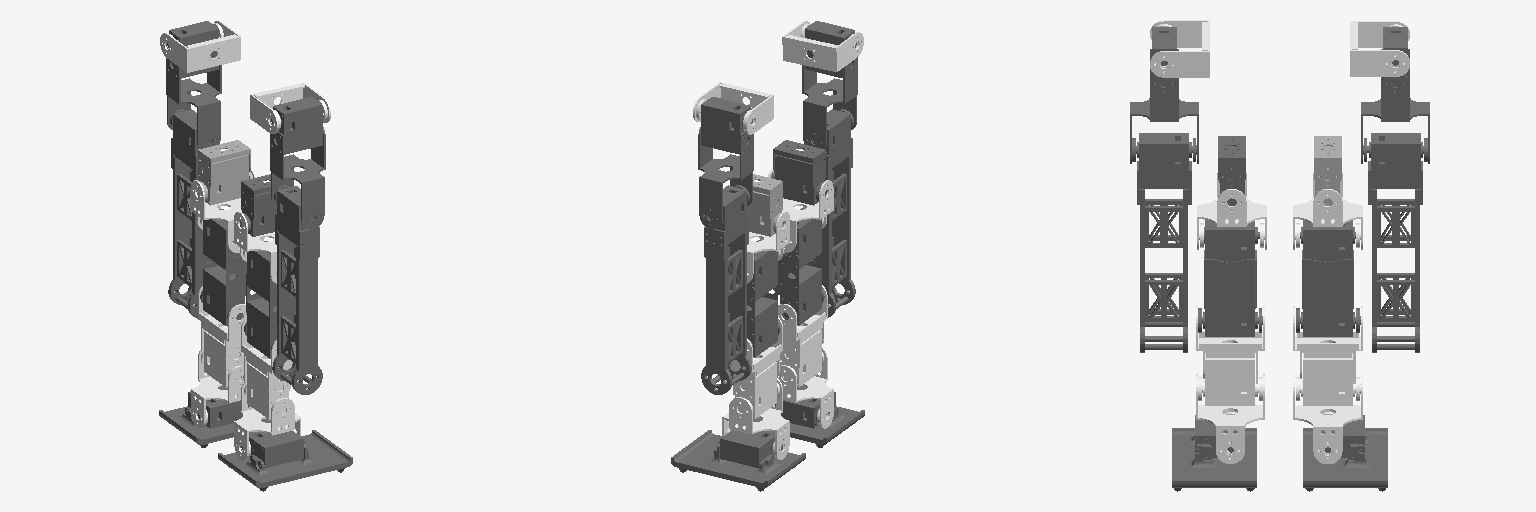
--- What the picture shows (computed from the rendered views, not written in the file) ---
3 views of the same robot in one strip: view 1: azimuth 30°, elevation 25°; view 2: azimuth 150°, elevation 25°; view 3: azimuth 270°, elevation 25° (orthographic).
Robot: Tonypi_urdf — 19 links, 18 joints (18 revolute); root link body_link; default pose: all joints at 0.
Links seen in each view (by area): view 1: right_arm_Link3, right_arm_Link2, left_arm_Link3, right_leg_Link6, left_arm_Link2, left_leg_Link3, right_leg_Link3, left_leg_Link1, left_leg_Link4, right_leg_Link4, left_arm_Link1, left_leg_Link6 (+6 smaller); view 2: left_arm_Link3, left_arm_Link2, right_arm_Link3, left_leg_Link6, right_arm_Link2, right_leg_Link3, left_leg_Link3, right_leg_Link4, right_leg_Link1, left_leg_Link4, right_arm_Link1, right_leg_Link6 (+6 smaller); view 3: right_arm_Link3, left_arm_Link3, right_leg_Link3, left_leg_Link3, right_leg_Link6, left_leg_Link6, left_leg_Link4, right_leg_Link4, right_arm_Link2, left_arm_Link2, right_arm_Link1, left_arm_Link1 (+6 smaller).
Boxes of the visible links, box(x1,y1,x2,y2) form: right_arm_Link3: box(272, 186, 322, 394); right_arm_Link2: box(270, 97, 325, 229); left_arm_Link3: box(168, 109, 211, 318); right_leg_Link6: box(218, 430, 352, 491); left_arm_Link2: box(166, 21, 221, 148); left_leg_Link3: box(200, 209, 246, 325); right_leg_Link3: box(244, 241, 276, 358); left_leg_Link1: box(196, 140, 252, 205); left_leg_Link4: box(198, 286, 246, 387); right_leg_Link4: box(241, 318, 292, 419); left_arm_Link1: box(160, 21, 240, 72); left_leg_Link6: box(159, 386, 270, 447); left_arm_Link3: box(701, 185, 751, 394); left_arm_Link2: box(698, 97, 753, 229); right_arm_Link3: box(813, 109, 855, 317); left_leg_Link6: box(671, 430, 805, 491); right_arm_Link2: box(802, 21, 857, 148); right_leg_Link3: box(778, 208, 824, 325); left_leg_Link3: box(747, 240, 780, 357); right_leg_Link4: box(778, 285, 827, 386); right_leg_Link1: box(771, 140, 827, 205); left_leg_Link4: box(731, 317, 782, 418); right_arm_Link1: box(782, 21, 863, 71); right_leg_Link6: box(753, 386, 864, 447); right_arm_Link3: box(1136, 133, 1192, 352); left_arm_Link3: box(1367, 133, 1423, 352); right_leg_Link3: box(1198, 220, 1262, 336); left_leg_Link3: box(1296, 220, 1360, 336); right_leg_Link6: box(1172, 415, 1256, 491); left_leg_Link6: box(1303, 415, 1387, 491); left_leg_Link4: box(1293, 306, 1362, 405); right_leg_Link4: box(1196, 306, 1264, 405); right_arm_Link2: box(1130, 27, 1198, 163); left_arm_Link2: box(1361, 27, 1429, 163); right_arm_Link1: box(1150, 20, 1209, 77); left_arm_Link1: box(1350, 21, 1409, 76).
Bounding box of the posed robot: 0.0996 × 0.2399 × 0.377 m (x, y, z).
Meshes: 19 distinct files referenced, 18 mesh visuals loaded (18 binary STL); not drawn: 1 (reference not matched to a file when rendering).

robot.urdf — Tonypi_urdf:
<?xml version="1.0" encoding="utf-8"?>
<!-- This URDF was automatically created by SolidWorks to URDF Exporter! Originally created by Stephen Brawner ([email redacted]) 
     Commit Version: 1.6.0-4-g7f85cfe  Build Version: 1.6.7995.38578
     For more information, please see http://wiki.ros.org/sw_urdf_exporter -->
<robot
  name="Tonypi_urdf">
  <link
    name="body_link">
    <inertial>
      <origin
        xyz="-0.00024383 0.002616 0.040576"
        rpy="0 0 0" />
      <mass
        value="0.3526" />
      <inertia
        ixx="0.00025406"
        ixy="1.5547E-07"
        ixz="-4.1957E-07"
        iyy="0.00011327"
        iyz="-7.8613E-07"
        izz="0.0001823" />
    </inertial>
    <visual>
      <origin
        xyz="0 0 0"
        rpy="0 0 0" />
      <geometry>
        <mesh
          filename="package://Tonypi_urdf/meshes/body_link.STL" />
      </geometry>
      <material
        name="">
        <color
          rgba="1 1 1 1" />
      </material>
    </visual>
    <collision>
      <origin
        xyz="0 0 0"
        rpy="0 0 0" />
      <geometry>
        <mesh
          filename="package://Tonypi_urdf/meshes/body_link.STL" />
      </geometry>
    </collision>
  </link>
  <link
    name="right_leg_Link1">
    <inertial>
      <origin
        xyz="0.000296062468953784 0.000106244946642978 -0.0477126536424364"
        rpy="0 0 0" />
      <mass
        value="0.036109580786353" />
      <inertia
        ixx="5.65290395562587E-06"
        ixy="-4.97867950075779E-10"
        ixz="3.65971205105565E-08"
        iyy="9.56874596870966E-06"
        iyz="2.80101618554125E-08"
        izz="6.33000855530587E-06" />
    </inertial>
    <visual>
      <origin
        xyz="0 0 0"
        rpy="0 0 0" />
      <geometry>
        <mesh
          filename="package://Tonypi_urdf/meshes/right_leg_Link1.STL" />
      </geometry>
      <material
        name="">
        <color
          rgba="0.501960784313725 0.501960784313725 0.501960784313725 1" />
      </material>
    </visual>
    <collision>
      <origin
        xyz="0 0 0"
        rpy="0 0 0" />
      <geometry>
        <mesh
          filename="package://Tonypi_urdf/meshes/right_leg_Link1.STL" />
      </geometry>
    </collision>
  </link>
  <joint
    name="right_leg1"
    type="revolute">
    <origin
      xyz="0.000 -0.0382635 -0.00"
      rpy="0 0 0" />
    <parent
      link="body_link" />
    <child
      link="right_leg_Link1" />
    <axis
      xyz="0 0 1" />
    <limit
      lower="-3.14"
      upper="3.14"
      effort="0"
      velocity="0" />
  </joint>
  <link
    name="right_leg_Link2">
    <inertial>
      <origin
        xyz="2.00031011385847E-08 2.33956783807221E-09 -0.0244008962621316"
        rpy="0 0 0" />
      <mass
        value="0.00921004932723462" />
      <inertia
        ixx="3.5616914899486E-06"
        ixy="-9.0018424934643E-22"
        ixz="-3.71401510096895E-21"
        iyy="3.60104166133249E-06"
        iyz="1.30363664538357E-21"
        izz="4.55618760339961E-06" />
    </inertial>
    <visual>
      <origin
        xyz="0 0 0"
        rpy="0 0 0" />
      <geometry>
        <mesh
          filename="package://Tonypi_urdf/meshes/right_leg_Link2.STL" />
      </geometry>
      <material
        name="">
        <color
          rgba="1 1 1 1" />
      </material>
    </visual>
    <collision>
      <origin
        xyz="0 0 0"
        rpy="0 0 0" />
      <geometry>
        <mesh
          filename="package://Tonypi_urdf/meshes/right_leg_Link2.STL" />
      </geometry>
    </collision>
  </link>
  <joint
    name="right_leg2"
    type="revolute">
    <origin
      xyz="0 0 -0.058419"
      rpy="0 0 0" />
    <parent
      link="right_leg_Link1" />
    <child
      link="right_leg_Link2" />
    <axis
      xyz="1 0 0" />
    <limit
      lower="-3.14"
      upper="3.14"
      effort="0"
      velocity="0" />
  </joint>
  <link
    name="right_leg_Link3">
    <inertial>
      <origin
        xyz="0.000298628622014659 -0.00164414471390581 -0.0382430116954167"
        rpy="0 0 0" />
      <mass
        value="0.0695870735912847" />
      <inertia
        ixx="1.90172698534593E-05"
        ixy="8.05010943807464E-10"
        ixz="-5.97671410936914E-13"
        iyy="1.1319927001743E-05"
        iyz="-1.43611137846773E-12"
        izz="1.22856704591215E-05" />
    </inertial>
    <visual>
      <origin
        xyz="0 0 0"
        rpy="0 0 0" />
      <geometry>
        <mesh
          filename="package://Tonypi_urdf/meshes/right_leg_Link3.STL" />
      </geometry>
      <material
        name="">
        <color
          rgba="0.501960784313725 0.501960784313725 0.501960784313725 1" />
      </material>
    </visual>
    <collision>
      <origin
        xyz="0 0 0"
        rpy="0 0 0" />
      <geometry>
        <mesh
          filename="package://Tonypi_urdf/meshes/right_leg_Link3.STL" />
      </geometry>
    </collision>
  </link>
  <joint
    name="right_leg3"
    type="revolute">
    <origin
      xyz="0 0.0 -0.0417"
      rpy="0 0 0" />
    <parent
      link="right_leg_Link2" />
    <child
      link="right_leg_Link3" />
    <axis
      xyz="0 1 0" />
    <limit
      lower="-3.14"
      upper="3.14"
      effort="0"
      velocity="0" />
  </joint>
  <link
    name="right_leg_Link4">
    <inertial>
      <origin
        xyz="-1.11963502176168E-08 -0.00146289087774281 -0.0445995629581697"
        rpy="0 0 0" />
      <mass
        value="0.0427023661722271" />
      <inertia
        ixx="1.3424469607423E-05"
        ixy="6.84504216271429E-13"
        ixz="-3.02168537620558E-15"
        iyy="7.08177761371648E-06"
        iyz="-1.12443281771506E-10"
        izz="9.54792703518981E-06" />
    </inertial>
    <visual>
      <origin
        xyz="0 0 0"
        rpy="0 0 0" />
      <geometry>
        <mesh
          filename="package://Tonypi_urdf/meshes/right_leg_Link4.STL" />
      </geometry>
      <material
        name="">
        <color
          rgba="1 1 1 1" />
      </material>
    </visual>
    <collision>
      <origin
        xyz="0 0 0"
        rpy="0 0 0" />
      <geometry>
        <mesh
          filename="package://Tonypi_urdf/meshes/right_leg_Link4.STL" />
      </geometry>
    </collision>
  </link>
  <joint
    name="right_leg4"
    type="revolute">
    <origin
      xyz="0 0 -0.0748"
      rpy="0 0 0" />
    <parent
      link="right_leg_Link3" />
    <child
      link="right_leg_Link4" />
    <axis
      xyz="0 1 0" />
    <limit
      lower="-3.14"
      upper="3.14"
      effort="0"
      velocity="0" />
  </joint>
  <link
    name="right_leg_Link5">
    <inertial>
      <origin
        xyz="-1.28348894069298E-08 -0.00126175464164592 -0.0244008780217513"
        rpy="0 0 0" />
      <mass
        value="0.00921004932723462" />
      <inertia
        ixx="3.60104166133248E-06"
        ixy="9.76206105828531E-22"
        ixz="-1.74117156857151E-21"
        iyy="3.5616914899486E-06"
        iyz="3.66275575238481E-21"
        izz="4.55618760339961E-06" />
    </inertial>
    <visual>
      <origin
        xyz="0 0 0"
        rpy="0 0 0" />
      <geometry>
        <mesh
          filename="package://Tonypi_urdf/meshes/right_leg_Link5.STL" />
      </geometry>
      <material
        name="">
        <color
          rgba="1 1 1 1" />
      </material>
    </visual>
    <collision>
      <origin
        xyz="0 0 0"
        rpy="0 0 0" />
      <geometry>
        <mesh
          filename="package://Tonypi_urdf/meshes/right_leg_Link5.STL" />
      </geometry>
    </collision>
  </link>
  <joint
    name="right_leg5"
    type="revolute">
    <origin
      xyz="0 0 -0.0603"
      rpy="0 0 0" />
    <parent
      link="right_leg_Link4" />
    <child
      link="right_leg_Link5" />
    <axis
      xyz="0 1 0" />
    <limit
      lower="-3.14"
      upper="3.14"
      effort="0"
      velocity="0" />
  </joint>
  <link
    name="right_leg_Link6">
    <inertial>
      <origin
        xyz="0.00560810347791624 -0.0124934535348167 -0.00847327236578943"
        rpy="0 0 0" />
      <mass
        value="0.0699485056328663" />
      <inertia
        ixx="1.97249570447331E-05"
        ixy="-1.03000291466078E-07"
        ixz="5.66550904215841E-08"
        iyy="3.81576305372732E-05"
        iyz="1.16816771205396E-07"
        izz="5.52188002503365E-05" />
    </inertial>
    <visual>
      <origin
        xyz="0 0 0"
        rpy="0 0 0" />
      <geometry>
        <mesh
          filename="package://Tonypi_urdf/meshes/right_leg_Link6.STL" />
      </geometry>
      <material
        name="">
        <color
          rgba="0.501960784313725 0.501960784313725 0.501960784313725 1" />
      </material>
    </visual>
    <collision>
      <origin
        xyz="0 0 0"
        rpy="0 0 0" />
      <geometry>
        <mesh
          filename="package://Tonypi_urdf/meshes/right_leg_Link6.STL" />
      </geometry>
    </collision>
  </link>
  <joint
    name="right_leg6"
    type="revolute">
    <origin
      xyz="0 0 -0.0417"
      rpy="0 0 0" />
    <parent
      link="right_leg_Link5" />
    <child
      link="right_leg_Link6" />
    <axis
      xyz="1 0 0" />
    <limit
      lower="-3.14"
      upper="3.14"
      effort="0"
      velocity="0" />
  </joint>
  <link
    name="left_leg_Link1">
    <inertial>
      <origin
        xyz="0.000309855384678834 -0.000105932853462776 -0.0475649313479209"
        rpy="0 0 0" />
      <mass
        value="0.036109580786353" />
      <inertia
        ixx="5.65288859195854E-06"
        ixy="4.95230362541006E-10"
        ixz="3.64547945498702E-08"
        iyy="9.56874597042413E-06"
        iyz="-2.80099571720059E-08"
        izz="6.33002391725868E-06" />
    </inertial>
    <visual>
      <origin
        xyz="0 0 0"
        rpy="0 0 0" />
      <geometry>
        <mesh
          filename="package://Tonypi_urdf/meshes/left_leg_Link1.STL" />
      </geometry>
      <material
        name="">
        <color
          rgba="0.752941176470588 0.752941176470588 0.752941176470588 1" />
      </material>
    </visual>
    <collision>
      <origin
        xyz="0 0 0"
        rpy="0 0 0" />
      <geometry>
        <mesh
          filename="package://Tonypi_urdf/meshes/left_leg_Link1.STL" />
      </geometry>
    </collision>
  </link>
  <joint
    name="left_leg1"
    type="revolute">
    <origin
      xyz="0 0.0382635 0"
      rpy="0 0 0" />
    <parent
      link="body_link" />
    <child
      link="left_leg_Link1" />
    <axis
      xyz="0 0 1" />
    <limit
      lower="-3.14"
      upper="3.14"
      effort="0"
      velocity="0" />
  </joint>
  <link
    name="left_leg_Link2">
    <inertial>
      <origin
        xyz="-5.41060685838035E-13 -1.24491320030451E-11 -0.0244008925219326"
        rpy="0 0 0" />
      <mass
        value="0.00921004932723461" />
      <inertia
        ixx="3.5616914899486E-06"
        ixy="4.59658773399462E-23"
        ixz="-3.31389232904057E-22"
        iyy="3.60104166133248E-06"
        iyz="3.62966852788269E-21"
        izz="4.5561876033996E-06" />
    </inertial>
    <visual>
      <origin
        xyz="0 0 0"
        rpy="0 0 0" />
      <geometry>
        <mesh
          filename="package://Tonypi_urdf/meshes/left_leg_Link2.STL" />
      </geometry>
      <material
        name="">
        <color
          rgba="1 1 1 1" />
      </material>
    </visual>
    <collision>
      <origin
        xyz="0 0 0"
        rpy="0 0 0" />
      <geometry>
        <mesh
          filename="package://Tonypi_urdf/meshes/left_leg_Link2.STL" />
      </geometry>
    </collision>
  </link>
  <joint
    name="left_leg2"
    type="revolute">
    <origin
      xyz="0 0 -0.058419"
      rpy="0 0 0" />
    <parent
      link="left_leg_Link1" />
    <child
      link="left_leg_Link2" />
    <axis
      xyz="1 0 0" />
    <limit
      lower="-3.14"
      upper="3.14"
      effort="0"
      velocity="0" />
  </joint>
  <link
    name="left_leg_Link3">
    <inertial>
      <origin
        xyz="0.000448611417644212 -0.000258192359539611 -0.0382168496261936"
        rpy="0 0 0" />
      <mass
        value="0.0695870735913904" />
      <inertia
        ixx="1.90172698534891E-05"
        ixy="8.05010943916793E-10"
        ixz="-5.97680522184214E-13"
        iyy="1.13199270016959E-05"
        iyz="-1.43611140508971E-12"
        izz="1.22856704590978E-05" />
    </inertial>
    <visual>
      <origin
        xyz="0 0 0"
        rpy="0 0 0" />
      <geometry>
        <mesh
          filename="package://Tonypi_urdf/meshes/left_leg_Link3.STL" />
      </geometry>
      <material
        name="">
        <color
          rgba="0.501960784313725 0.501960784313725 0.501960784313725 1" />
      </material>
    </visual>
    <collision>
      <origin
        xyz="0 0 0"
        rpy="0 0 0" />
      <geometry>
        <mesh
          filename="package://Tonypi_urdf/meshes/left_leg_Link3.STL" />
      </geometry>
    </collision>
  </link>
  <joint
    name="left_leg3"
    type="revolute">
    <origin
      xyz="0 0 -0.0417"
      rpy="0 0 0" />
    <parent
      link="left_leg_Link2" />
    <child
      link="left_leg_Link3" />
    <axis
      xyz="0 1 0" />
    <limit
      lower="-3.14"
      upper="3.14"
      effort="0"
      velocity="0" />
  </joint>
  <link
    name="left_leg_Link4">
    <inertial>
      <origin
        xyz="0.000467595457972817 -0.000118117140763901 -0.0445160663004915"
        rpy="0 0 0" />
      <mass
        value="0.042702366172227" />
      <inertia
        ixx="1.3424469607423E-05"
        ixy="6.84504219403623E-13"
        ixz="-3.02166009587293E-15"
        iyy="7.08177761371646E-06"
        iyz="-1.12443281777924E-10"
        izz="9.54792703518982E-06" />
    </inertial>
    <visual>
      <origin
        xyz="0 0 0"
        rpy="0 0 0" />
      <geometry>
        <mesh
          filename="package://Tonypi_urdf/meshes/left_leg_Link4.STL" />
      </geometry>
      <material
        name="">
        <color
          rgba="1 1 1 1" />
      </material>
    </visual>
    <collision>
      <origin
        xyz="0 0 0"
        rpy="0 0 0" />
      <geometry>
        <mesh
          filename="package://Tonypi_urdf/meshes/left_leg_Link4.STL" />
      </geometry>
    </collision>
  </link>
  <joint
    name="left_leg4"
    type="revolute">
    <origin
      xyz="0 0 -0.0748"
      rpy="0 0 0" />
    <parent
      link="left_leg_Link3" />
    <child
      link="left_leg_Link4" />
    <axis
      xyz="0 1 0" />
    <limit
      lower="-3.14"
      upper="3.14"
      effort="0"
      velocity="0" />
  </joint>
  <link
    name="left_leg_Link5">
    <inertial>
      <origin
        xyz="0.000723621630750943 5.17969936216917E-05 -0.0242728568713646"
        rpy="0 0 0" />
      <mass
        value="0.0092100493272346" />
      <inertia
        ixx="3.60104166133248E-06"
        ixy="-5.76163608385862E-22"
        ixz="5.93036800412236E-21"
        iyy="3.56169148994857E-06"
        iyz="4.15906411991662E-21"
        izz="4.5561876033996E-06" />
    </inertial>
    <visual>
      <origin
        xyz="0 0 0"
        rpy="0 0 0" />
      <geometry>
        <mesh
          filename="package://Tonypi_urdf/meshes/left_leg_Link5.STL" />
      </geometry>
      <material
        name="">
        <color
          rgba="1 1 1 1" />
      </material>
    </visual>
    <collision>
      <origin
        xyz="0 0 0"
        rpy="0 0 0" />
      <geometry>
        <mesh
          filename="package://Tonypi_urdf/meshes/left_leg_Link5.STL" />
      </geometry>
    </collision>
  </link>
  <joint
    name="left_leg5"
    type="revolute">
    <origin
      xyz="0 0 -0.0603"
      rpy="0 0 0" />
    <parent
      link="left_leg_Link4" />
    <child
      link="left_leg_Link5" />
    <axis
      xyz="0 1 0" />
    <limit
      lower="-3.14"
      upper="3.14"
      effort="0"
      velocity="0" />
  </joint>
  <link
    name="left_leg_Link6">
    <inertial>
      <origin
        xyz="0.00560810509919187 0.0124934149172235 -0.0084732779690404"
        rpy="0 0 0" />
      <mass
        value="0.0699485180282473" />
      <inertia
        ixx="1.97249926778499E-05"
        ixy="1.0299277145842E-07"
        ixz="5.66673856376909E-08"
        iyy="3.81576243578173E-05"
        iyz="-1.16827451714918E-07"
        izz="5.52188260293356E-05" />
    </inertial>
    <visual>
      <origin
        xyz="0 0 0"
        rpy="0 0 0" />
      <geometry>
        <mesh
          filename="package://Tonypi_urdf/meshes/left_leg_Link6.STL" />
      </geometry>
      <material
        name="">
        <color
          rgba="0.501960784313725 0.501960784313725 0.501960784313725 1" />
      </material>
    </visual>
    <collision>
      <origin
        xyz="0 0 0"
        rpy="0 0 0" />
      <geometry>
        <mesh
          filename="package://Tonypi_urdf/meshes/left_leg_Link6.STL" />
      </geometry>
    </collision>
  </link>
  <joint
    name="left_leg6"
    type="revolute">
    <origin
      xyz="0 0 -0.0417"
      rpy="0 0 0" />
    <parent
      link="left_leg_Link5" />
    <child
      link="left_leg_Link6" />
    <axis
      xyz="1 0 0" />
    <limit
      lower="-3.14"
      upper="3.14"
      effort="0"
      velocity="0" />
  </joint>
  <link
    name="right_arm_Link1">
    <inertial>
      <origin
        xyz="-9.0726037793587E-16 -0.0194600750173041 0"
        rpy="0 0 0" />
      <mass
        value="0.00779307525149815" />
      <inertia
        ixx="1.67443946895364E-06"
        ixy="8.2777365993557E-22"
        ixz="7.48307566680458E-08"
        iyy="3.50493277794166E-06"
        iyz="1.29291998244966E-21"
        izz="4.40149777227313E-06" />
    </inertial>
    <visual>
      <origin
        xyz="0 0 0"
        rpy="0 0 0" />
      <geometry>
        <mesh
          filename="package://Tonypi_urdf/meshes/right_arm_Link1.STL" />
      </geometry>
      <material
        name="">
        <color
          rgba="1 1 1 1" />
      </material>
    </visual>
    <collision>
      <origin
        xyz="0 0 0"
        rpy="0 0 0" />
      <geometry>
        <mesh
          filename="package://Tonypi_urdf/meshes/right_arm_Link1.STL" />
      </geometry>
    </collision>
  </link>
  <joint
    name="right_arm1"
    type="revolute">
    <origin
      xyz="0 -0.05381 0.063892"
      rpy="0 0 0" />
    <parent
      link="body_link" />
    <child
      link="right_arm_Link1" />
    <axis
      xyz="0 1 0" />
    <limit
      lower="-3.14"
      upper="3.14"
      effort="0"
      velocity="0" />
  </joint>
  <link
    name="right_arm_Link2">
    <inertial>
      <origin
        xyz="0.000249665434656319 -9.5811616418473E-09 -0.0222044853547887"
        rpy="0 0 0" />
      <mass
        value="0.0431074051724793" />
      <inertia
        ixx="1.23055898361451E-05"
        ixy="6.84504218182843E-13"
        ixz="2.99272050323378E-08"
        iyy="1.45390024502477E-05"
        iyz="-3.02164497765368E-15"
        izz="1.06053508938956E-05" />
    </inertial>
    <visual>
      <origin
        xyz="0 0 0"
        rpy="0 0 0" />
      <geometry>
        <mesh
          filename="package://Tonypi_urdf/meshes/right_arm_Link2.STL" />
      </geometry>
      <material
        name="">
        <color
          rgba="0.501960784313725 0.501960784313725 0.501960784313725 1" />
      </material>
    </visual>
    <collision>
      <origin
        xyz="0 0 0"
        rpy="0 0 0" />
      <geometry>
        <mesh
          filename="package://Tonypi_urdf/meshes/right_arm_Link2.STL" />
      </geometry>
    </collision>
  </link>
  <joint
    name="right_arm2"
    type="revolute">
    <origin
      xyz="0 -0.0384 0"
      rpy="0 0 0" />
    <parent
      link="right_arm_Link1" />
    <child
      link="right_arm_Link2" />
    <axis
      xyz="1 0 0" />
    <limit
      lower="-3.14"
      upper="3.14"
      effort="0"
      velocity="0" />
  </joint>
  <link
    name="right_arm_Link3">
    <inertial>
      <origin
        xyz="-8.73997605542551E-06 -0.00024875184615672 -0.0575809795534767"
        rpy="0 0 0" />
      <mass
        value="0.069232999247785" />
      <inertia
        ixx="9.09874667220203E-05"
        ixy="-6.84504221818347E-13"
        ixz="1.65052043981023E-08"
        iyy="8.01492519033891E-05"
        iyz="5.69737521582002E-08"
        izz="1.59518686940999E-05" />
    </inertial>
    <visual>
      <origin
        xyz="0 0 0"
        rpy="0 0 0" />
      <geometry>
        <mesh
          filename="package://Tonypi_urdf/meshes/right_arm_Link3.STL" />
      </geometry>
      <material
        name="">
        <color
          rgba="0.501960784313725 0.501960784313725 0.501960784313725 1" />
      </material>
    </visual>
    <collision>
      <origin
        xyz="0 0 0"
        rpy="0 0 0" />
      <geometry>
        <mesh
          filename="package://Tonypi_urdf/meshes/right_arm_Link3.STL" />
      </geometry>
    </collision>
  </link>
  <joint
    name="right_arm3"
    type="revolute">
    <origin
      xyz="0 0 -0.0886"
      rpy="0 0 0" />
    <parent
      link="right_arm_Link2" />
    <child
      link="right_arm_Link3" />
    <axis
      xyz="0 1 0" />
    <limit
      lower="-3.14"
      upper="3.14"
      effort="0"
      velocity="0" />
  </joint>
  <link
    name="left_arm_Link1">
    <inertial>
      <origin
        xyz="-1.72171304990698E-16 0.019460075017305 8.32667268468867E-17"
        rpy="0 0 0" />
      <mass
        value="0.00779307525149814" />
      <inertia
        ixx="1.6725061348285E-06"
        ixy="4.68215561803489E-21"
        ixz="1.79885931496466E-08"
        iyy="3.50493277794165E-06"
        iyz="6.13577256205525E-22"
        izz="4.40343110639835E-06" />
    </inertial>
    <visual>
      <origin
        xyz="0 0 0"
        rpy="0 0 0" />
      <geometry>
        <mesh
          filename="package://Tonypi_urdf/meshes/left_arm_Link1.STL" />
      </geometry>
      <material
        name="">
        <color
          rgba="1 1 1 1" />
      </material>
    </visual>
    <collision>
      <origin
        xyz="0 0 0"
        rpy="0 0 0" />
      <geometry>
        <mesh
          filename="package://Tonypi_urdf/meshes/left_arm_Link1.STL" />
      </geometry>
    </collision>
  </link>
  <joint
    name="left_arm1"
    type="revolute">
    <origin
      xyz="0 0.05381 0.063892"
      rpy="0 0 0" />
    <parent
      link="body_link" />
    <child
      link="left_arm_Link1" />
    <axis
      xyz="0 1 0" />
    <limit
      lower="-3.14"
      upper="3.14"
      effort="0"
      velocity="0" />
  </joint>
  <link
    name="left_arm_Link2">
    <inertial>
      <origin
        xyz="0.000253202399121676 8.79846584478372E-10 -0.0221791231273614"
        rpy="0 0 0" />
      <mass
        value="0.0431074051724792" />
      <inertia
        ixx="1.23055898361451E-05"
        ixy="6.84504218592984E-13"
        ixz="2.99272050323388E-08"
        iyy="1.45390024502477E-05"
        iyz="-3.02163559095748E-15"
        izz="1.06053508938956E-05" />
    </inertial>
    <visual>
      <origin
        xyz="0 0 0"
        rpy="0 0 0" />
      <geometry>
        <mesh
          filename="package://Tonypi_urdf/meshes/left_arm_Link2.STL" />
      </geometry>
      <material
        name="">
        <color
          rgba="0.501960784313725 0.501960784313725 0.501960784313725 1" />
      </material>
    </visual>
    <collision>
      <origin
        xyz="0 0 0"
        rpy="0 0 0" />
      <geometry>
        <mesh
          filename="package://Tonypi_urdf/meshes/left_arm_Link2.STL" />
      </geometry>
    </collision>
  </link>
  <joint
    name="left_arm2"
    type="revolute">
    <origin
      xyz="0 0.0384 0"
      rpy="0 0 0" />
    <parent
      link="left_arm_Link1" />
    <child
      link="left_arm_Link2" />
    <axis
      xyz="1 0 0" />
    <limit
      lower="-3.14"
      upper="3.14"
      effort="0"
      velocity="0" />
  </joint>
  <link
    name="left_arm_Link3">
    <inertial>
      <origin
        xyz="8.72507778716279E-06 0.000265182848913997 -0.0575809947140529"
        rpy="0 0 0" />
      <mass
        value="0.069232999247785" />
      <inertia
        ixx="9.09874667220202E-05"
        ixy="-6.8450422047042E-13"
        ixz="-1.65052043977398E-08"
        iyy="8.0149251903389E-05"
        iyz="-5.69737521581718E-08"
        izz="1.59518686940999E-05" />
    </inertial>
    <visual>
      <origin
        xyz="0 0 0"
        rpy="0 0 0" />
      <geometry>
        <mesh
          filename="package://Tonypi_urdf/meshes/left_arm_Link3.STL" />
      </geometry>
      <material
        name="">
        <color
          rgba="0.501960784313725 0.501960784313725 0.501960784313725 1" />
      </material>
    </visual>
    <collision>
      <origin
        xyz="0 0 0"
        rpy="0 0 0" />
      <geometry>
        <mesh
          filename="package://Tonypi_urdf/meshes/left_arm_Link3.STL" />
      </geometry>
    </collision>
  </link>
  <joint
    name="left_arm3"
    type="revolute">
    <origin
      xyz="0 0 -0.0886"
      rpy="0 0 0" />
    <parent
      link="left_arm_Link2" />
    <child
      link="left_arm_Link3" />
    <axis
      xyz="0 1 0" />
    <limit
      lower="-3.14"
      upper="3.14"
      effort="0"
      velocity="0" />
  </joint>
</robot>
